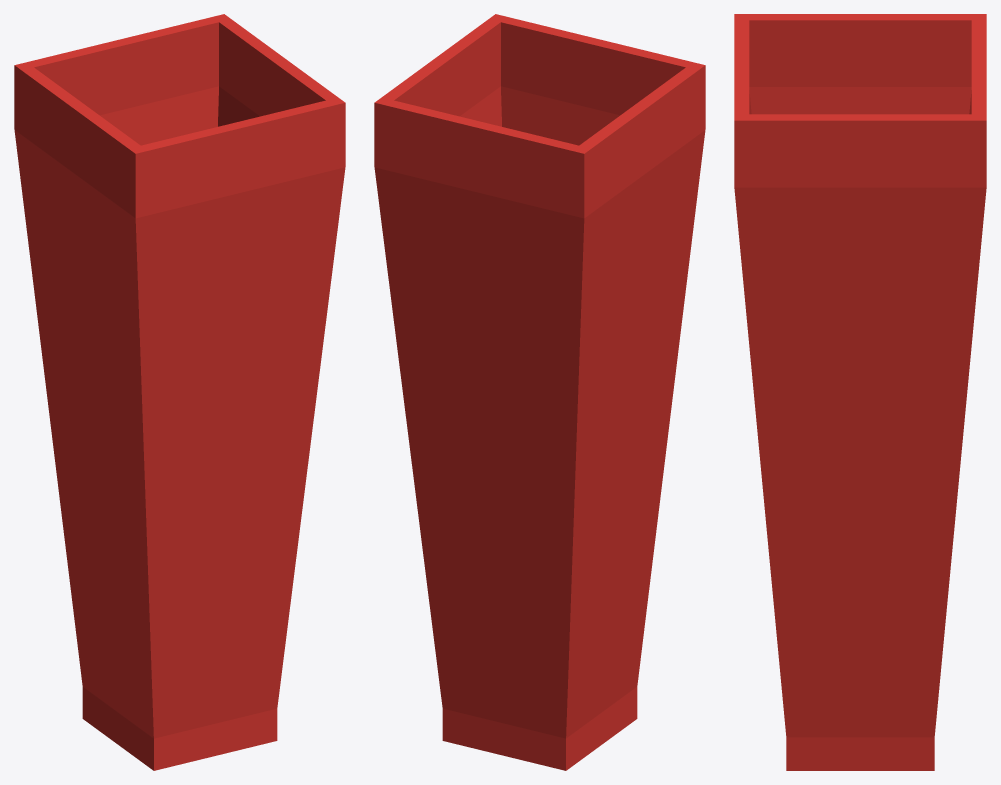
Rendered from RedBin.dae.
3 renders of one model, left to right at view 1: azimuth 30°, elevation 25°; view 2: azimuth 150°, elevation 25°; view 3: azimuth 270°, elevation 25°, orthographic. The views are drawn at different scales.
Parts seen in each view (by area): view 1: RedBin; view 2: RedBin; view 3: RedBin.
Boxes of the visible parts, <box> form: RedBin: <box>14,14,345,770</box>; RedBin: <box>374,14,705,770</box>; RedBin: <box>734,14,986,770</box>.
Bounding box in the file's own units: 0.17 × 0.17 × 0.5.
